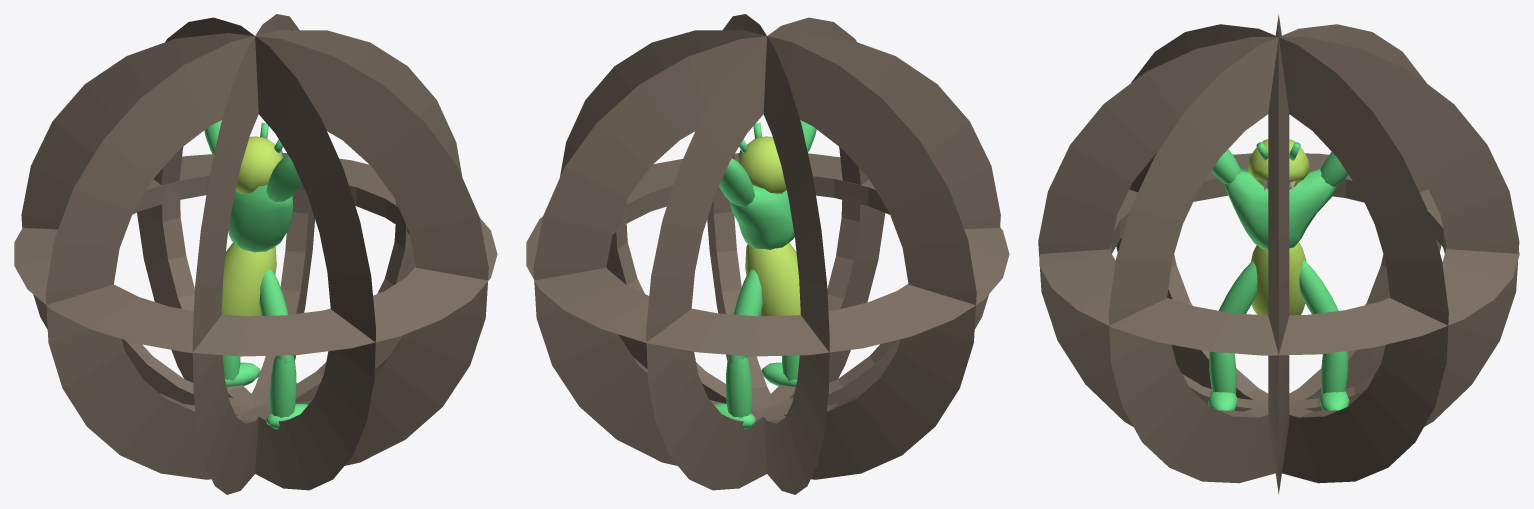
File: AlienInBall.fbx
3 renders of one model, left to right at view 1: azimuth 30°, elevation 25°; view 2: azimuth 150°, elevation 25°; view 3: azimuth 270°, elevation 25°, orthographic.
Parts seen in each view (by area): view 1: Torus.002, Torus.001, Torus, Torus.004, Torus.003, Sphere.001, Sphere, Sphere.002, Sphere.006, Sphere.008, Sphere.003; view 2: Torus.003, Torus.001, Torus, Torus.004, Torus.002, Sphere, Sphere.001, Sphere.002, Sphere.005, Sphere.007, Sphere.004; view 3: Torus, Torus.003, Torus.002, Torus.004, Torus.001, Sphere.001, Sphere, Sphere.002, Sphere.004, Sphere.003, Sphere.005, Sphere.006 (+2 smaller).
Boxes of the visible parts, x1=… form: Torus.002: x1=21, y1=33, x2=488, y2=465; Torus.001: x1=45, y1=30, x2=462, y2=479; Torus: x1=137, y1=17, x2=375, y2=490; Torus.004: x1=14, y1=153, x2=497, y2=356; Torus.003: x1=192, y1=14, x2=314, y2=494; Sphere.001: x1=228, y1=185, x2=293, y2=252; Sphere: x1=221, y1=242, x2=276, y2=316; Sphere.002: x1=235, y1=136, x2=283, y2=193; Sphere.006: x1=270, y1=356, x2=296, y2=417; Sphere.008: x1=266, y1=155, x2=301, y2=202; Sphere.003: x1=259, y1=269, x2=293, y2=363; Torus.003: x1=533, y1=33, x2=1000, y2=465; Torus.001: x1=560, y1=30, x2=976, y2=479; Torus: x1=646, y1=17, x2=885, y2=490; Torus.004: x1=526, y1=153, x2=1009, y2=356; Torus.002: x1=707, y1=14, x2=829, y2=494; Sphere: x1=745, y1=242, x2=800, y2=316; Sphere.001: x1=728, y1=184, x2=794, y2=249; Sphere.002: x1=738, y1=136, x2=786, y2=193; Sphere.005: x1=725, y1=355, x2=752, y2=417; Sphere.007: x1=719, y1=158, x2=754, y2=206; Sphere.004: x1=729, y1=269, x2=762, y2=363; Torus: x1=1038, y1=37, x2=1519, y2=426; Torus.003: x1=1116, y1=24, x2=1448, y2=483; Torus.002: x1=1108, y1=24, x2=1441, y2=483; Torus.004: x1=1039, y1=153, x2=1519, y2=355; Torus.001: x1=1268, y1=14, x2=1289, y2=494; Sphere.001: x1=1223, y1=167, x2=1337, y2=249; Sphere: x1=1251, y1=242, x2=1306, y2=315; Sphere.002: x1=1248, y1=139, x2=1309, y2=189; Sphere.004: x1=1299, y1=260, x2=1338, y2=314; Sphere.003: x1=1219, y1=261, x2=1257, y2=313; Sphere.005: x1=1321, y1=351, x2=1348, y2=394; Sphere.006: x1=1209, y1=351, x2=1236, y2=394.
Size of the model in its own units: 250 by 249 by 250.
